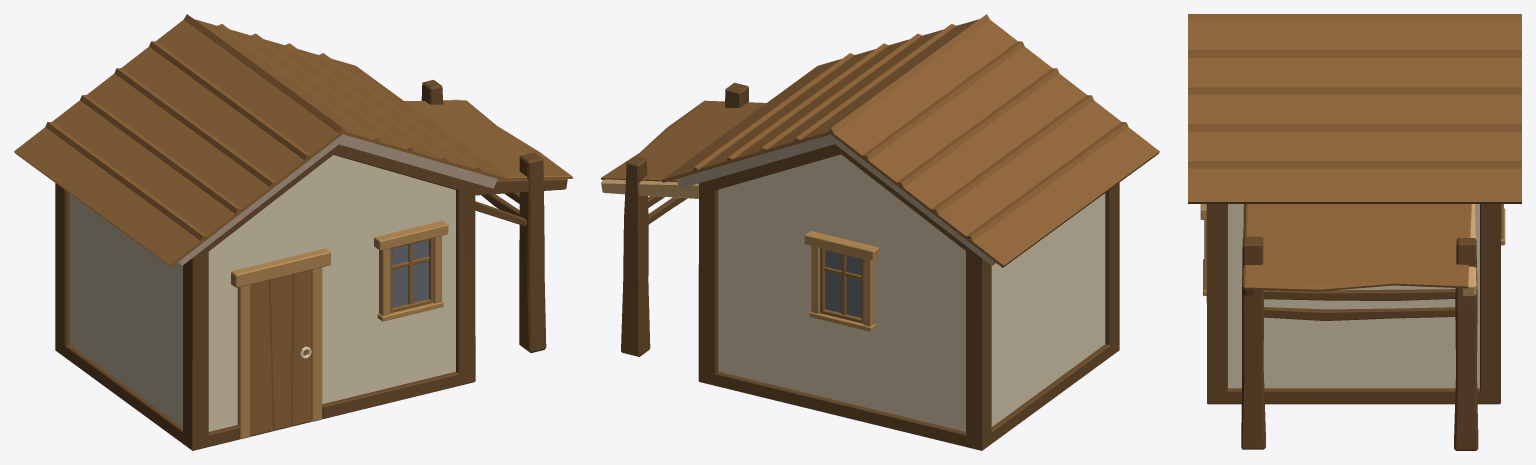
File: littlehouse_a.gltf
The picture shows the model from 3 angles, left to right: view 1: azimuth 30°, elevation 25°; view 2: azimuth 150°, elevation 25°; view 3: azimuth 270°, elevation 25°; orthographic projection. The views are drawn at different scales.
Parts seen in each view (by area): view 1: Shape009, Box656, littlehouse_a001, Shape008; view 2: Box656, Shape009, littlehouse_a001, Shape008; view 3: Shape009, littlehouse_a001, Box656.
Boxes of the visible parts, x1,y1,x2,y2 form: Shape009: (14,14,572,267); Box656: (69,155,455,431); littlehouse_a001: (55,79,567,450); Shape008: (178,134,497,265); Box656: (718,154,1105,431); Shape009: (601,14,1159,267); littlehouse_a001: (601,82,1119,450); Shape008: (676,134,995,265); Shape009: (1188,14,1521,291); littlehouse_a001: (1200,204,1505,450); Box656: (1228,204,1479,388).
Bounding box in the file's own units: 4.72 × 3.09 × 2.95.
Materials: 1 (1 with a texture image).
